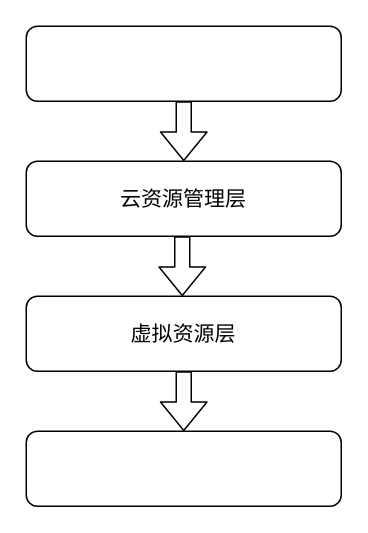
The diagram is 368 pixels wide and 533 high, and some of its shapes have lost their labels. Here are the shapes that lost their labels. From the top down, the box of each, then its label:
(25, 25, 341, 101): 仿真测试层
(25, 430, 341, 506): 物理资源层
